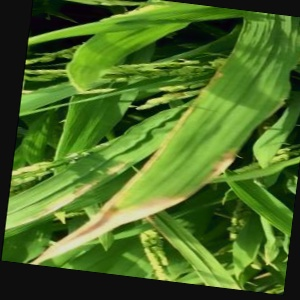Leaf_Blast: (170, 69, 234, 208)
